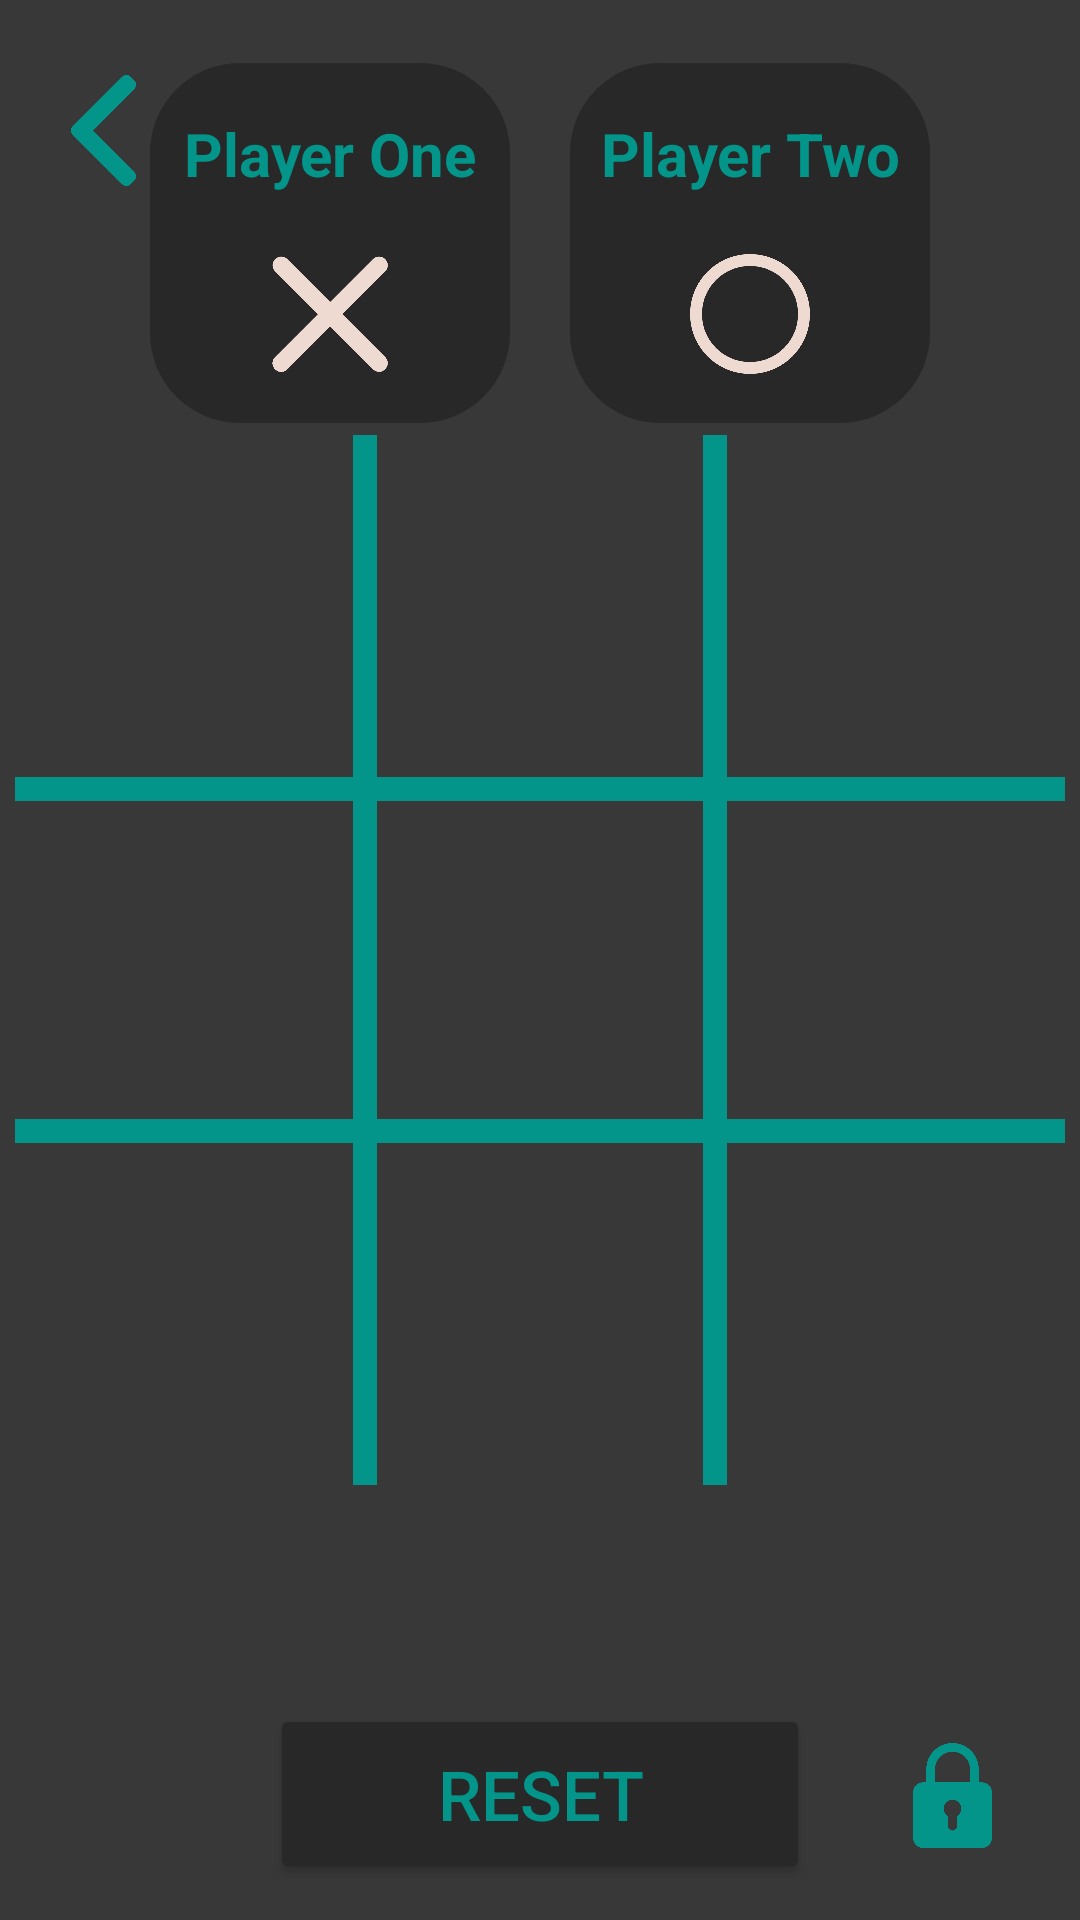

Icon click points for this 1080×1920 phone screenshot, format [x,y]:
back: [103,130]
circle: [750,314]
cross: [330,314]
locked: [952,1795]
